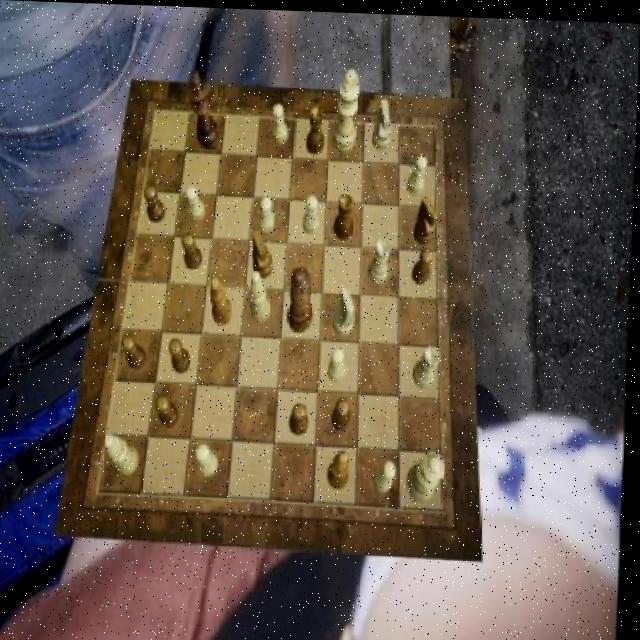bishop: (211, 276, 236, 324), (331, 447, 355, 488)
black-bishop: (187, 69, 222, 148)
black-king: (416, 192, 441, 242), (252, 228, 276, 277)
black-knight: (123, 333, 150, 368), (144, 183, 168, 221), (158, 392, 184, 427), (171, 336, 194, 373), (414, 245, 436, 283), (183, 232, 205, 268), (292, 401, 312, 434), (336, 395, 354, 429)
black-pawn: (289, 264, 317, 330)
black-queen: (307, 101, 326, 153), (335, 190, 355, 238)
black-rook: (106, 433, 144, 475), (251, 269, 275, 322)
white-bishop: (333, 65, 360, 150)
white-king: (335, 285, 359, 333), (373, 95, 394, 147)
white-knight: (409, 152, 430, 193), (199, 442, 223, 476), (377, 456, 400, 491), (273, 102, 291, 143), (186, 184, 207, 219), (304, 194, 322, 233), (331, 345, 351, 380), (260, 194, 278, 230)
white-pawn: (410, 448, 449, 501)
white-queen: (415, 342, 443, 385), (369, 234, 393, 281)
